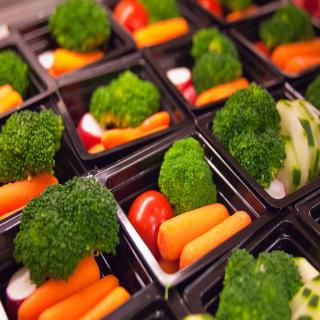Broccoli: (12, 174, 120, 287), (213, 82, 286, 188), (217, 250, 304, 320), (0, 110, 64, 182), (159, 137, 217, 216), (91, 70, 160, 128), (48, 0, 111, 53), (191, 30, 241, 95), (262, 1, 315, 49), (0, 51, 28, 98), (141, 0, 179, 23), (305, 80, 320, 110)
